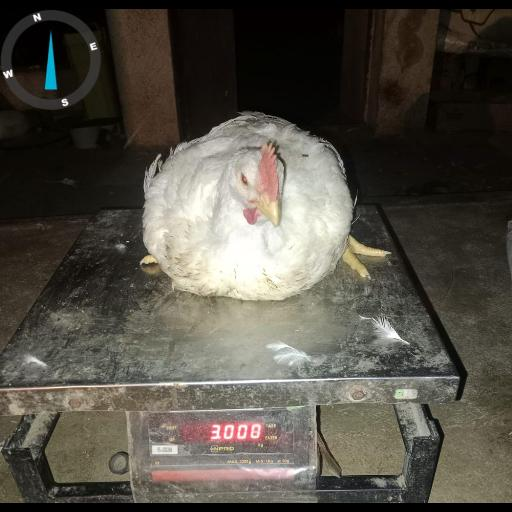chick: (141, 112, 393, 298)
